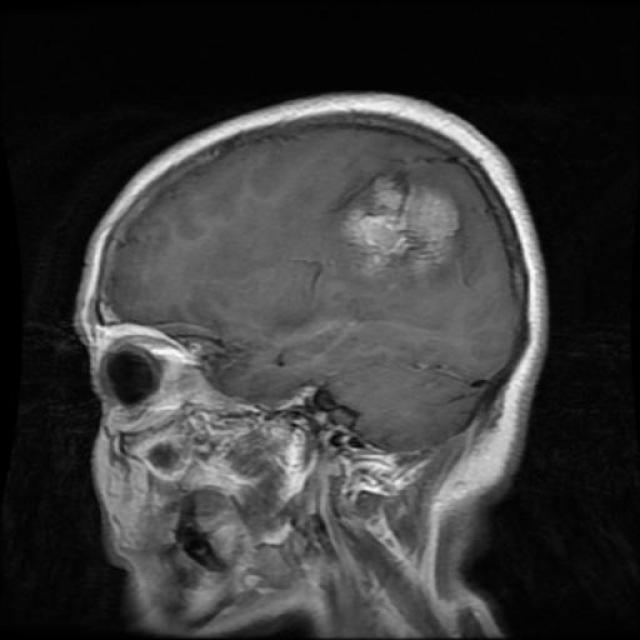meningioma: (340, 170, 460, 290)
